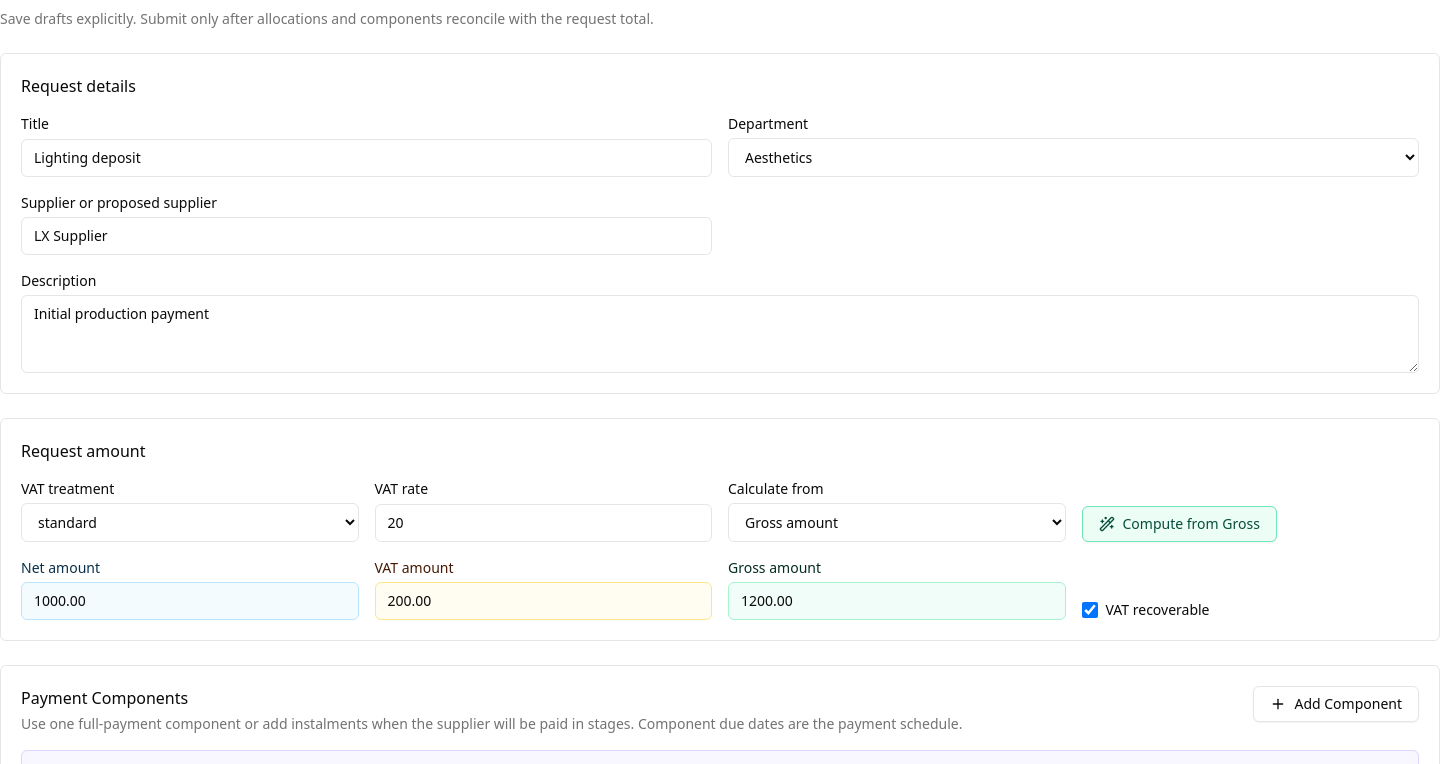
Test: Stage 5 spending request panels › renames an untouched full-payment component to deposit when adding a final payment
Click the button "Add Component" at (1336, 704), box [1253,686,1419,722]
(page scrolled)
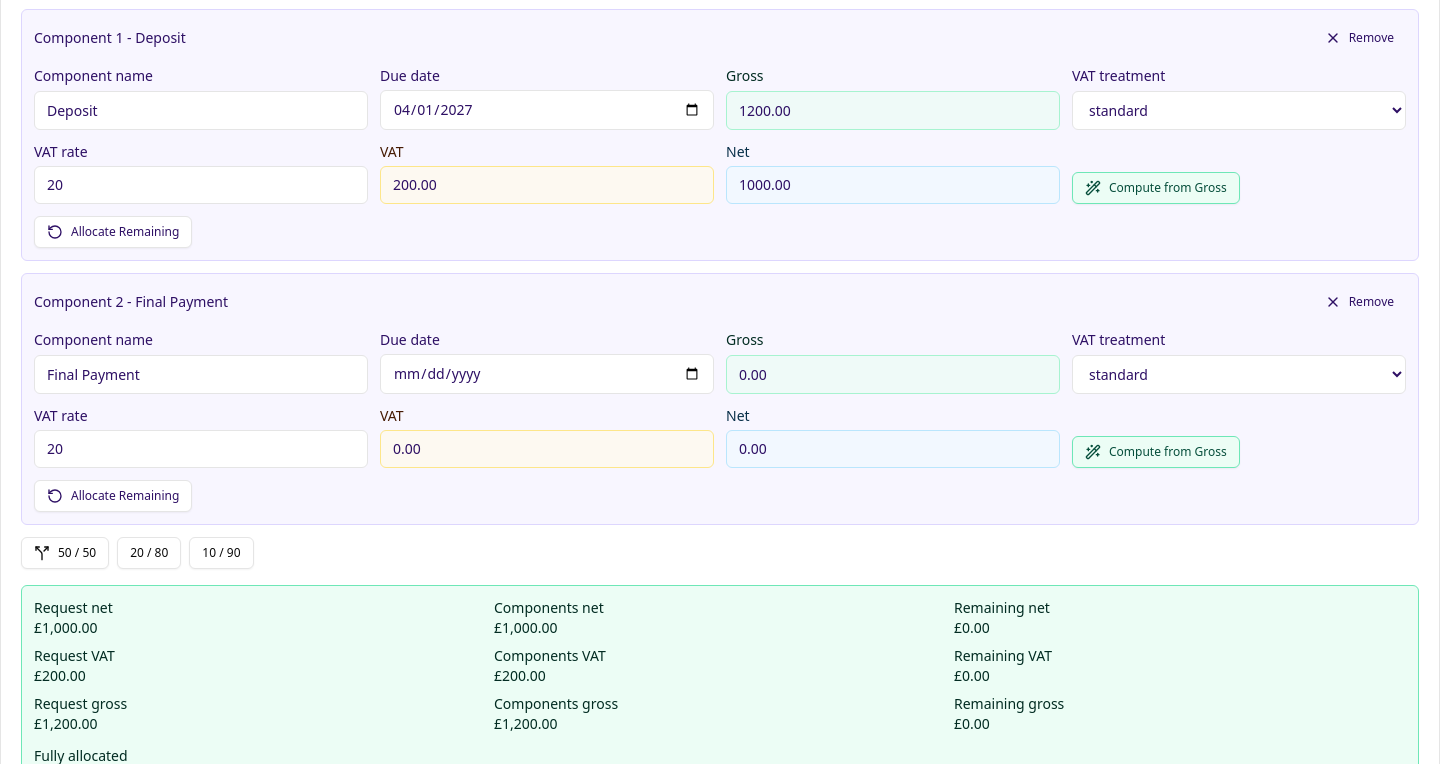
expect the field showing "Deposit" below "- Deposit" is shown: met, box [34,91,368,130]
expect the field showing "Final Payment" below "- Final Payment" is shown: met, box [34,355,368,394]
